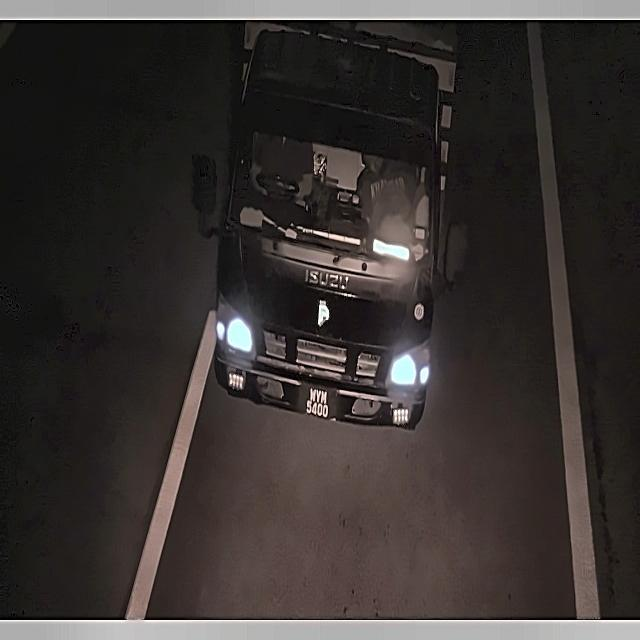car: (297, 382, 338, 423)
